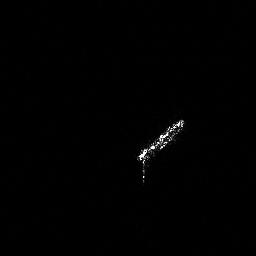ship: (135, 119, 185, 185)
